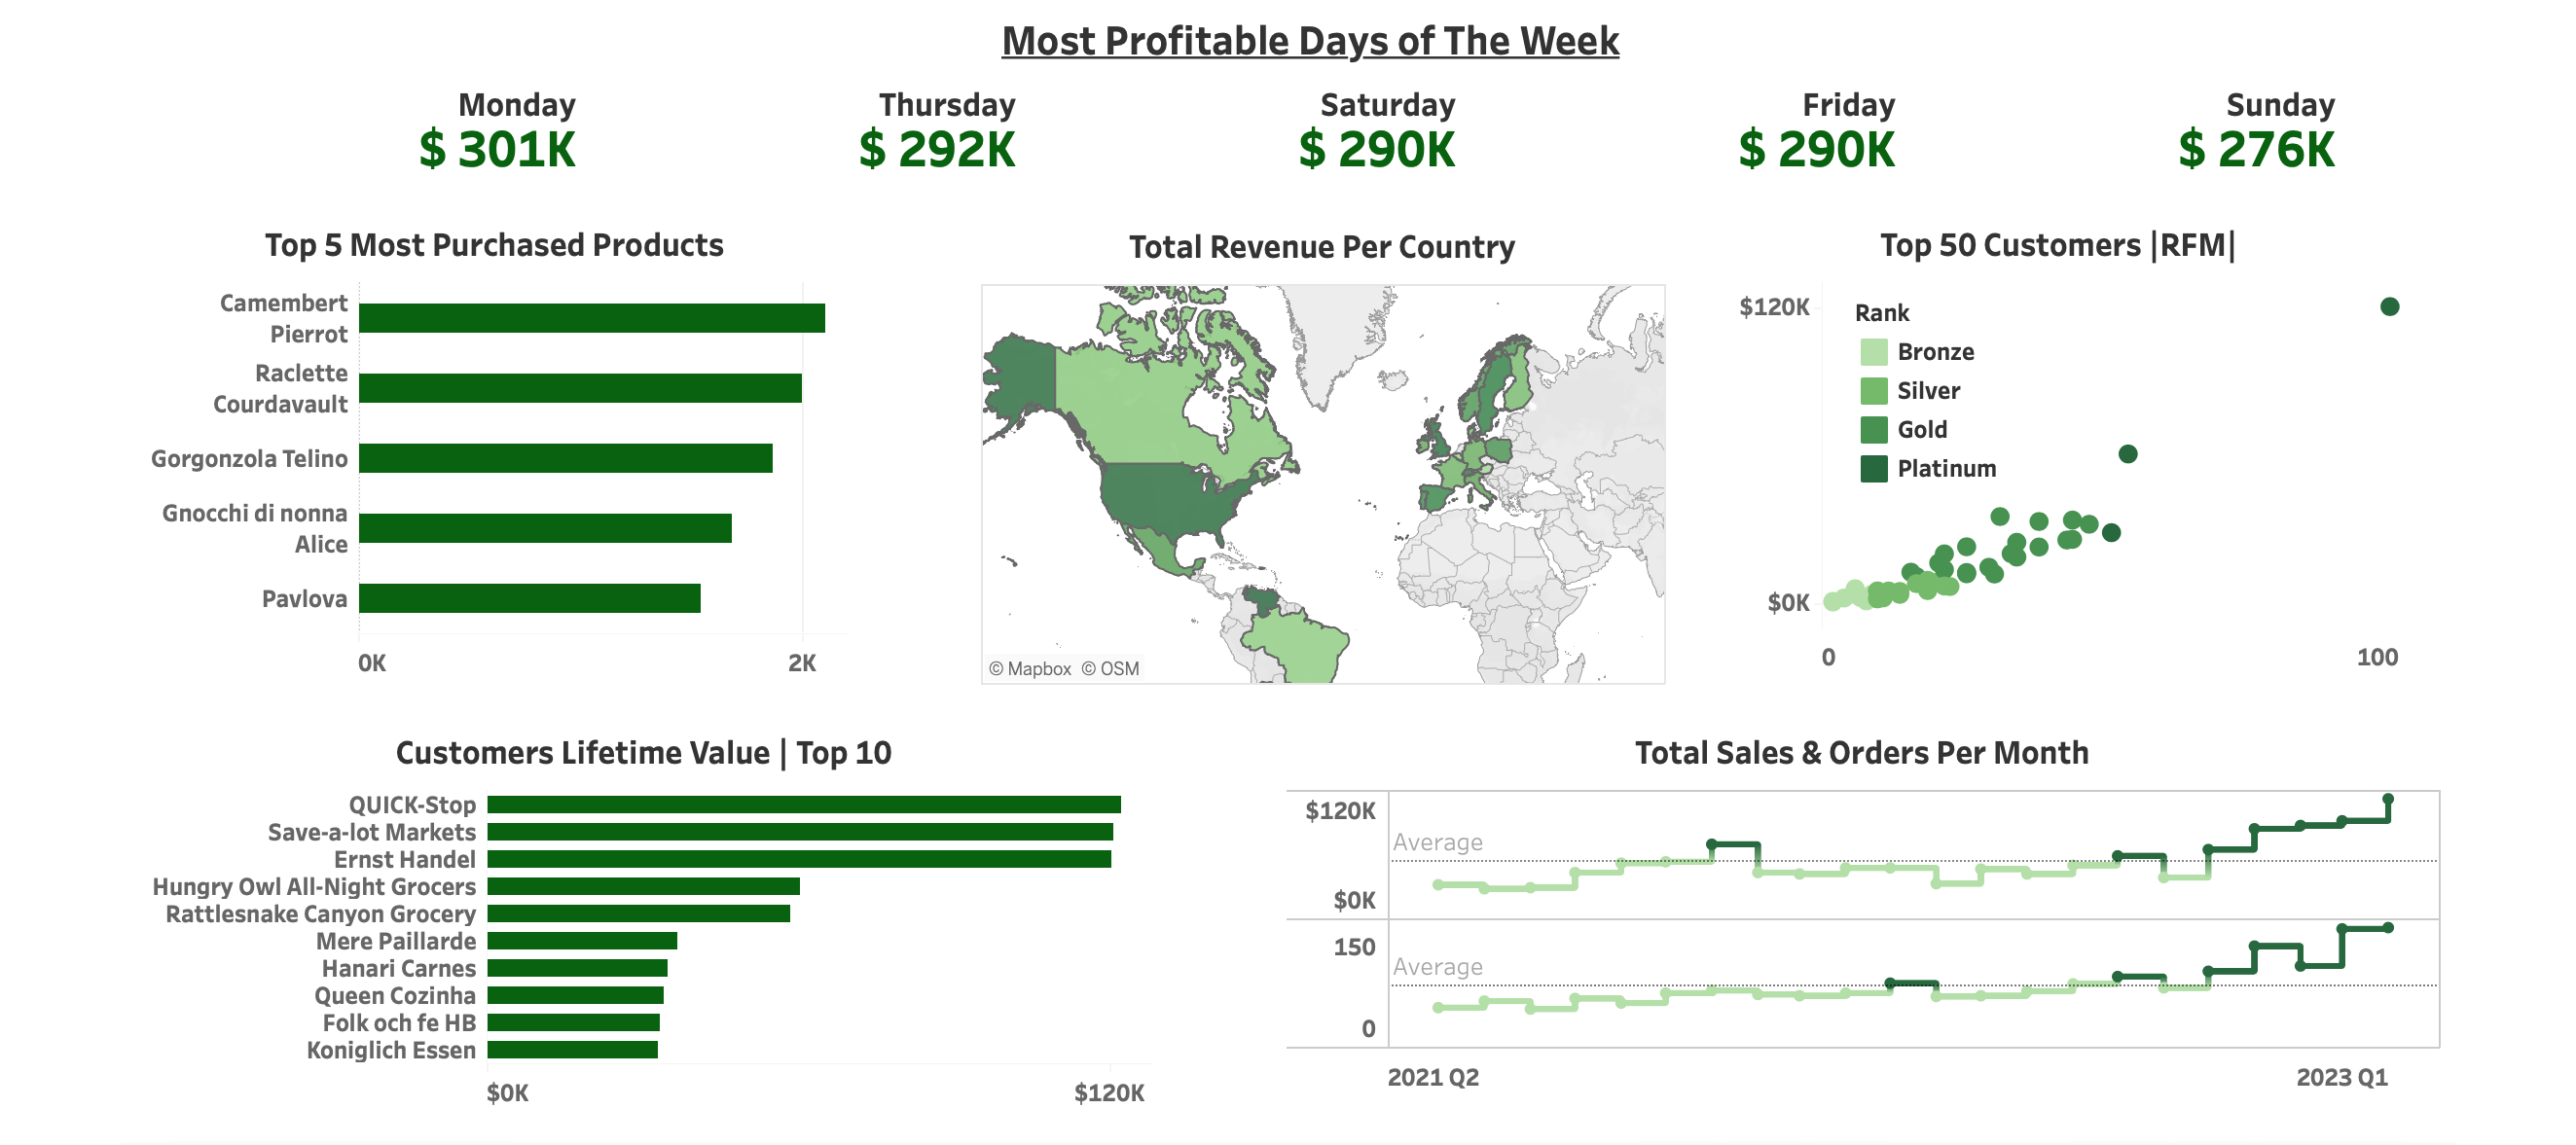

This screenshot's page, from the dashboard's own definition file:
{"tool":"tableau","page":{"name":"Dashboard 1","canvas":[1000,1000],"units":"permille","ordinal":0},"visuals":[{"type":"worksheet","title":"Days","mark":"Automatic","cols":["day_of_week"],"box":[6.8,12.8,986.5,158.4]},{"type":"worksheet","title":"Products","mark":"Automatic","rows":["product_name"],"cols":["total_quantity_sold"],"box":[6.8,171.2,356.9,446.1]},{"type":"worksheet","title":"Country","mark":"Multipolygon","box":[363.7,171.2,303,446.1]},{"type":"worksheet","title":"RFM","mark":"Automatic","rows":["monetary_value"],"cols":["order_frequency"],"box":[666.6,171.2,326.6,446.1]},{"type":"legend","title":"RFM","param":"[federated.0fq3iwm1xicak81ggezr21hv7mg6].[none:Calculation_65161491172237325:nk]","box":[742.8,273.2,80.6,176.8]},{"type":"worksheet","title":"10","mark":"Automatic","rows":["customer_name"],"cols":["total_spent"],"box":[6.8,617.3,492.7,369.9]},{"type":"worksheet","title":"Totals","mark":"Automatic","rows":["total_sales","total_orders"],"cols":["month"],"box":[499.5,617.3,493.7,369.9]}]}

Visuals, with their boxes on the dashboard's canvas, which has no fixed pixel size, in thousandths of its width and height (x1, y1, x2, y2). These are canvas units, not pixel positions in the 2576x1145 screenshot, which may show the page scaled, cropped or inside an application window:
"Days" worksheet: 7 13 993 171
"Products" worksheet: 7 171 364 617
"Country" worksheet (Multipolygon marks): 364 171 667 617
"RFM" worksheet: 667 171 993 617
"RFM" legend: 743 273 823 450
"10" worksheet: 7 617 500 987
"Totals" worksheet: 500 617 993 987
